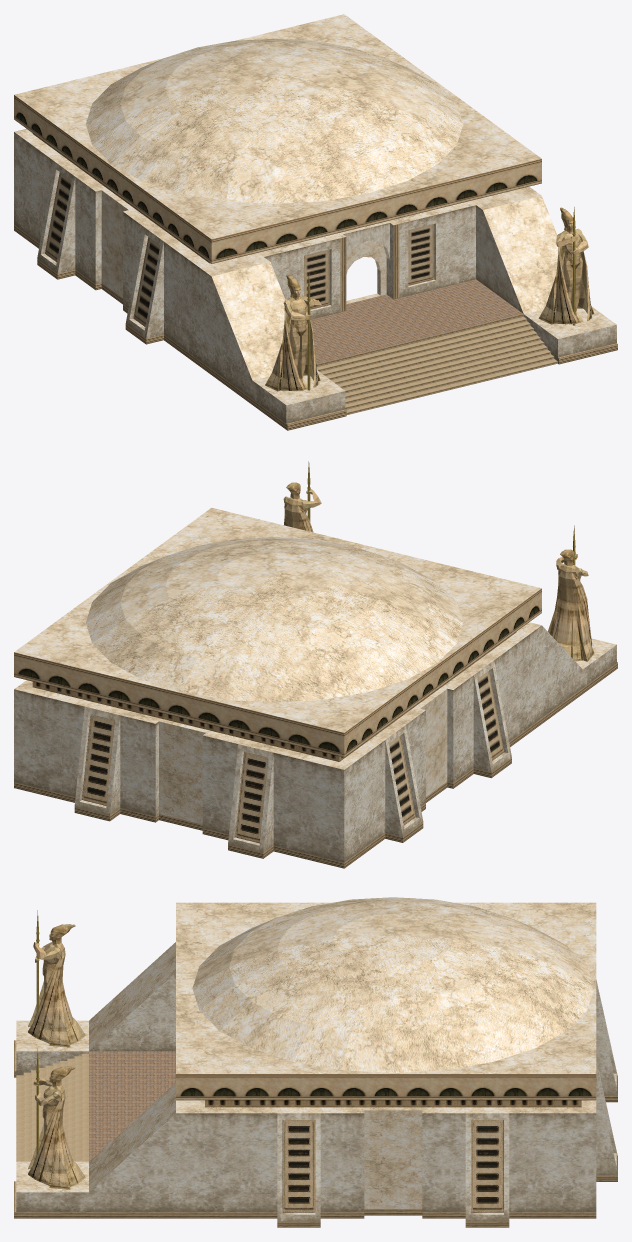
Rendered from mun_tato_guild_combat_s01_r0_exterior_mesh_l0.fbx.
3 views of the same model, one above another, from view 1: azimuth 30°, elevation 25°; view 2: azimuth 150°, elevation 25°; view 3: azimuth 270°, elevation 25° (orthographic). The views are drawn at different scales.
Visible parts, largest first — view 1: mesh_node; view 2: mesh_node; view 3: mesh_node.
Part boxes in pixels (x1,y1,x2,y2): mesh_node: [14, 14, 617, 430]; mesh_node: [14, 461, 617, 868]; mesh_node: [14, 897, 617, 1227].
Size of the model in its own units: 38.75 by 18.75 by 52.08.
